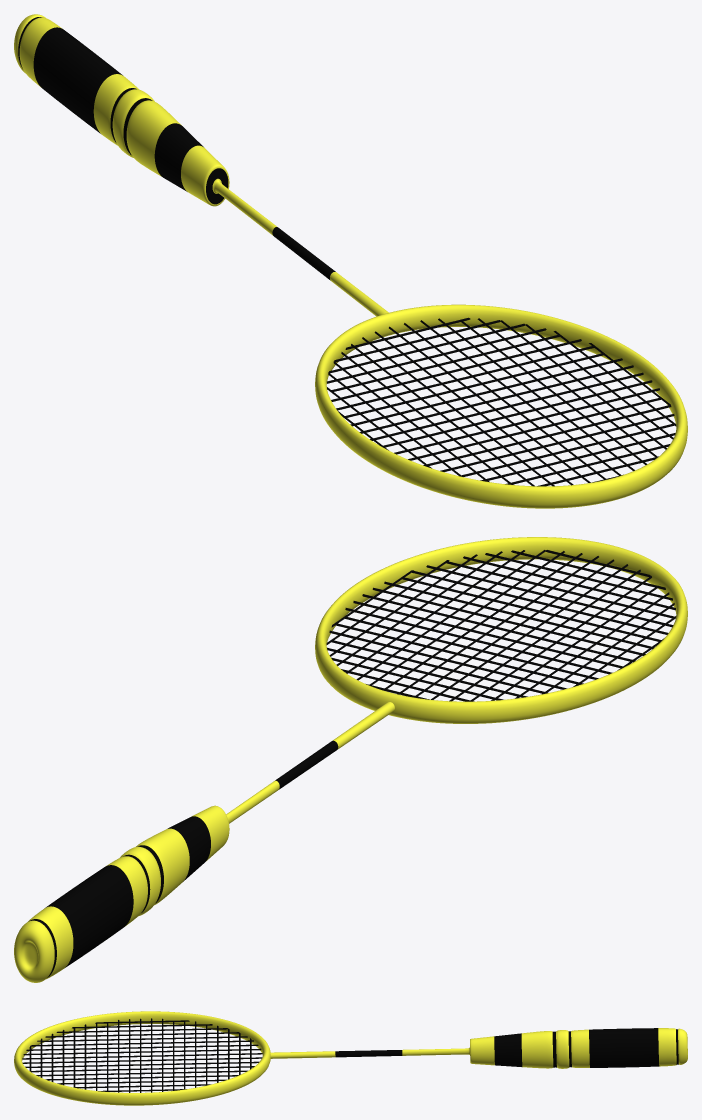
File: badminton_racket.fbx
3 renders of one model, top to bottom at view 1: azimuth 30°, elevation 25°; view 2: azimuth 150°, elevation 25°; view 3: azimuth 270°, elevation 25°, orthographic. The views are drawn at different scales.
Parts seen in each view (by area): view 1: racket; view 2: racket; view 3: racket.
Boxes of the visible parts, left/top/right/bottom form: racket: left=14, top=14, right=687, bottom=508; racket: left=14, top=537, right=687, bottom=982; racket: left=14, top=1011, right=687, bottom=1105.
Bounding box in the file's own units: 124 × 26.78 × 419.
